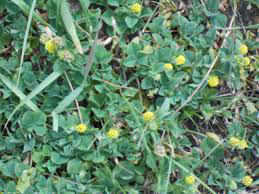clover: (1, 1, 259, 191)
